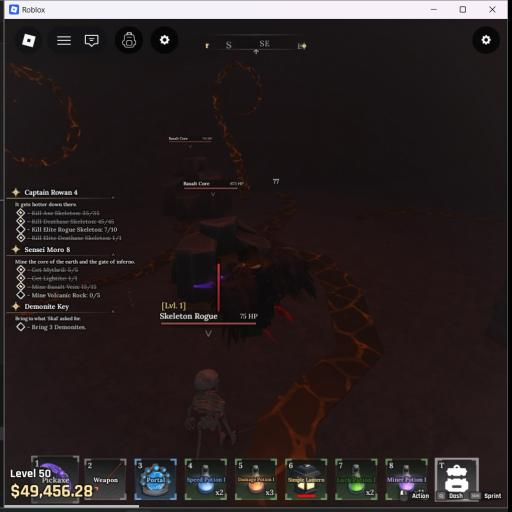player: (219, 246, 316, 346)
rock: (172, 216, 270, 302), (163, 158, 231, 219)
